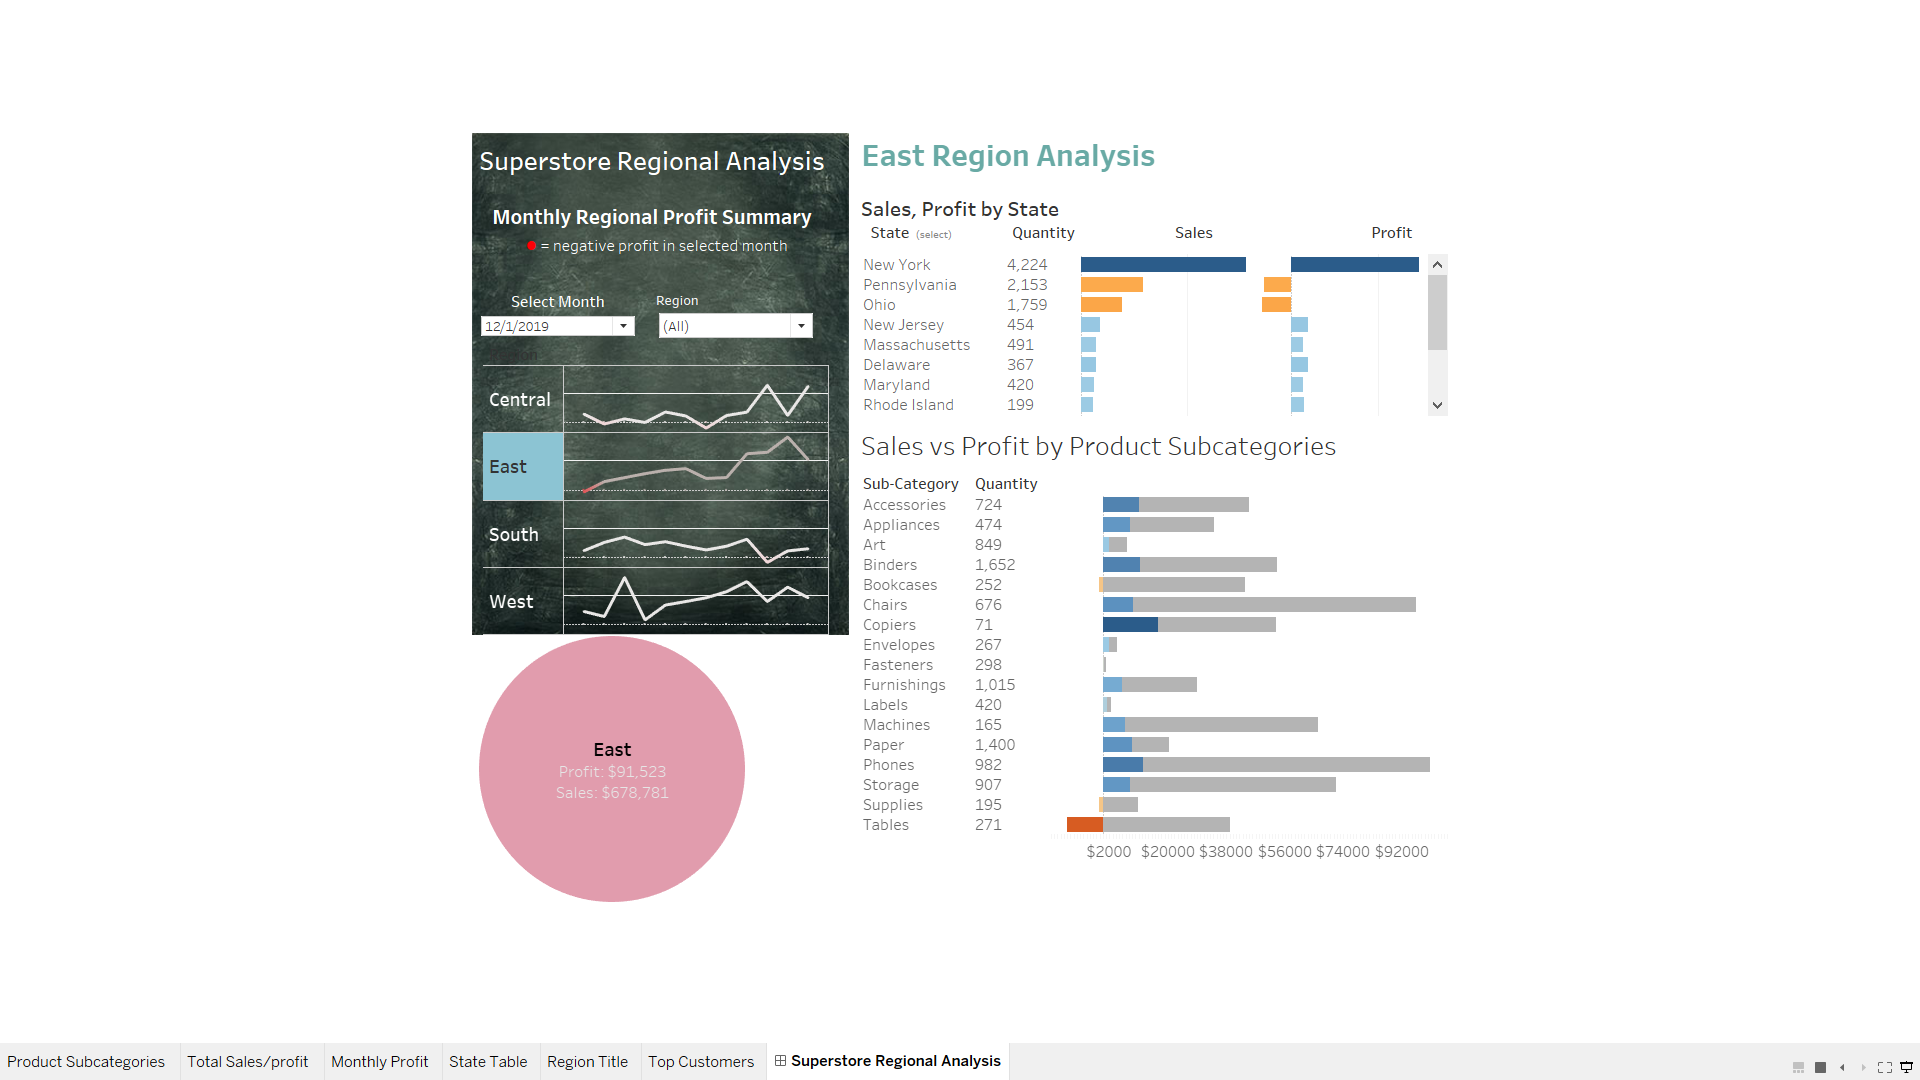

Layout of this report page (visuals, bound fields, positions):
{"tool":"tableau","page":{"name":"Superstore Regional Analysis","canvas":[1000,800],"ordinal":0},"visuals":[{"type":"worksheet","box":[0,0,1000,800]},{"type":"worksheet","param":"horz","box":[8,8,984,784]},{"type":"worksheet","param":"horz","box":[8,8,984,784]},{"type":"worksheet","param":"horz","box":[8,8,984,784]},{"type":"worksheet","box":[8,8,984,784]},{"type":"worksheet","param":"vert","box":[8,8,385,784]},{"type":"worksheet","param":"C:/Users/Joykaus/Desktop/CP7881-dark-green-chalkboard-backdrop_x460.jpg","box":[8,8,385,784]},{"type":"worksheet","param":"vert","box":[393,8,599,291]},{"type":"worksheet","param":"vert","box":[393,8,599,57]},{"type":"worksheet","title":"Region Title","mark":"Automatic","box":[393,8,599,57]},{"type":"worksheet","box":[16,14,367,50]},{"type":"worksheet","box":[29,64,335,90]},{"type":"worksheet","title":"State Table","mark":"Automatic","rows":["State","Quantity"],"cols":["Sales","Profit"],"box":[393,65,599,234]},{"type":"worksheet","param":"[Parameters].[Parameter 3]","box":[18,170,160,48]},{"type":"worksheet","title":"Monthly Profit","mark":"Circle","rows":["Region","Profit","Calculation_2027182785657044997"],"cols":["Order Date"],"param":"[Sample - Superstore].[none:Region:nk]","box":[196,170,160,143]},{"type":"worksheet","title":"Monthly Profit","mark":"Circle","rows":["Region","Profit","Calculation_2027182785657044997"],"cols":["Order Date"],"box":[23,224,346,290]},{"type":"worksheet","title":"Product Subcategories","mark":"Bar","rows":["Sub-Category","Quantity"],"cols":["Sales","Profit"],"box":[393,299,599,493]},{"type":"worksheet","title":"Total Sales/profit","mark":"Circle","box":[19,515,358,266]}]}

Visuals, with their boxes on the page's 1000x800 design canvas (x1, y1, x2, y2). These are canvas units, not pixel positions in the 1920x1080 screenshot, which may show the page scaled, cropped or inside an application window:
worksheet: <box>0,0,1000,800</box>
worksheet: <box>8,8,992,792</box>
worksheet: <box>8,8,992,792</box>
worksheet: <box>8,8,992,792</box>
worksheet: <box>8,8,992,792</box>
worksheet: <box>8,8,393,792</box>
worksheet: <box>8,8,393,792</box>
worksheet: <box>393,8,992,299</box>
worksheet: <box>393,8,992,65</box>
"Region Title" worksheet: <box>393,8,992,65</box>
worksheet: <box>16,14,383,64</box>
worksheet: <box>29,64,364,154</box>
"State Table" worksheet: <box>393,65,992,299</box>
worksheet: <box>18,170,178,218</box>
"Monthly Profit" worksheet (Circle marks): <box>196,170,356,313</box>
"Monthly Profit" worksheet (Circle marks): <box>23,224,369,514</box>
"Product Subcategories" worksheet (Bar marks): <box>393,299,992,792</box>
"Total Sales/profit" worksheet (Circle marks): <box>19,515,377,781</box>
